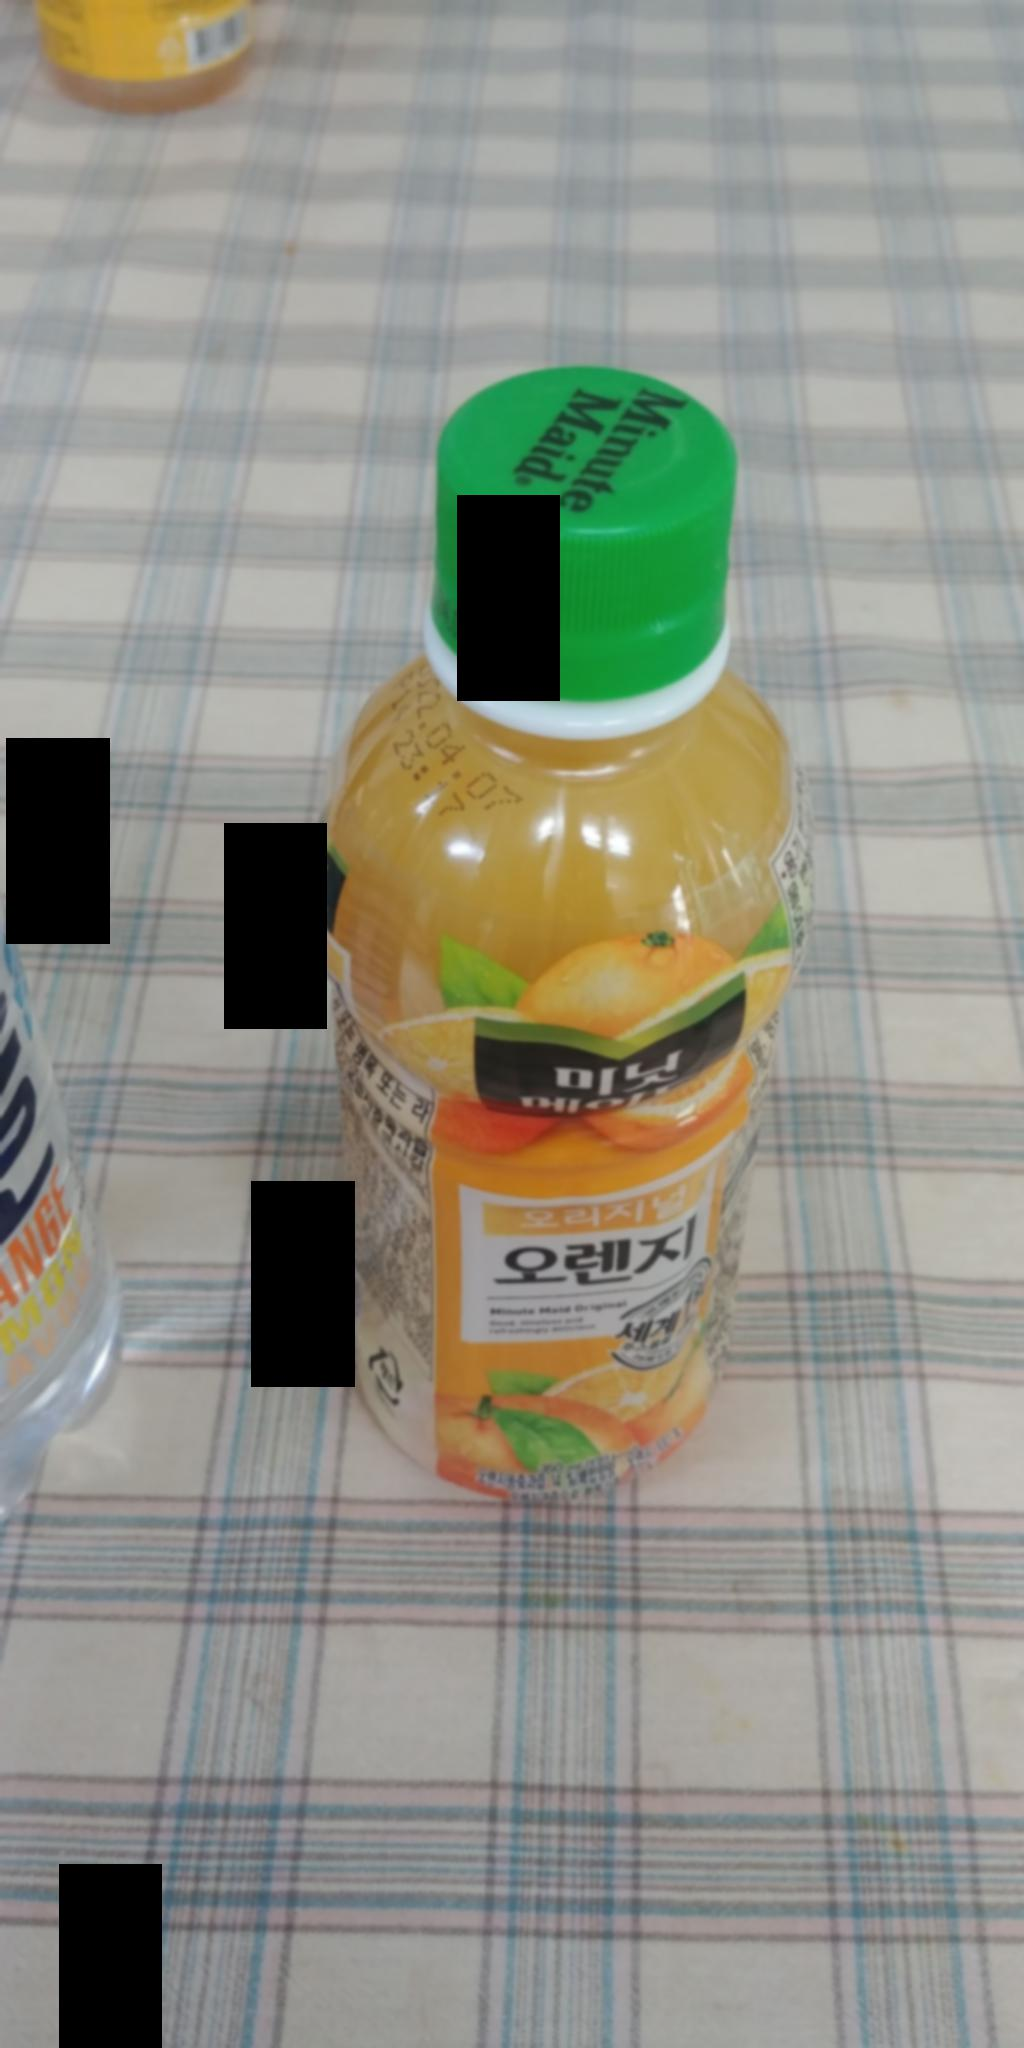minutemaid_org_orange: (307, 354, 820, 1526)
